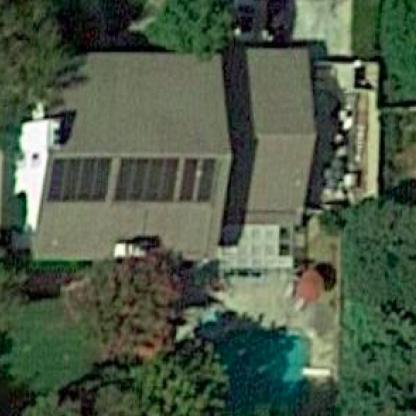solar_panel: (112, 146, 221, 212), (46, 145, 113, 211)
swimming_pool: (184, 303, 319, 416)
